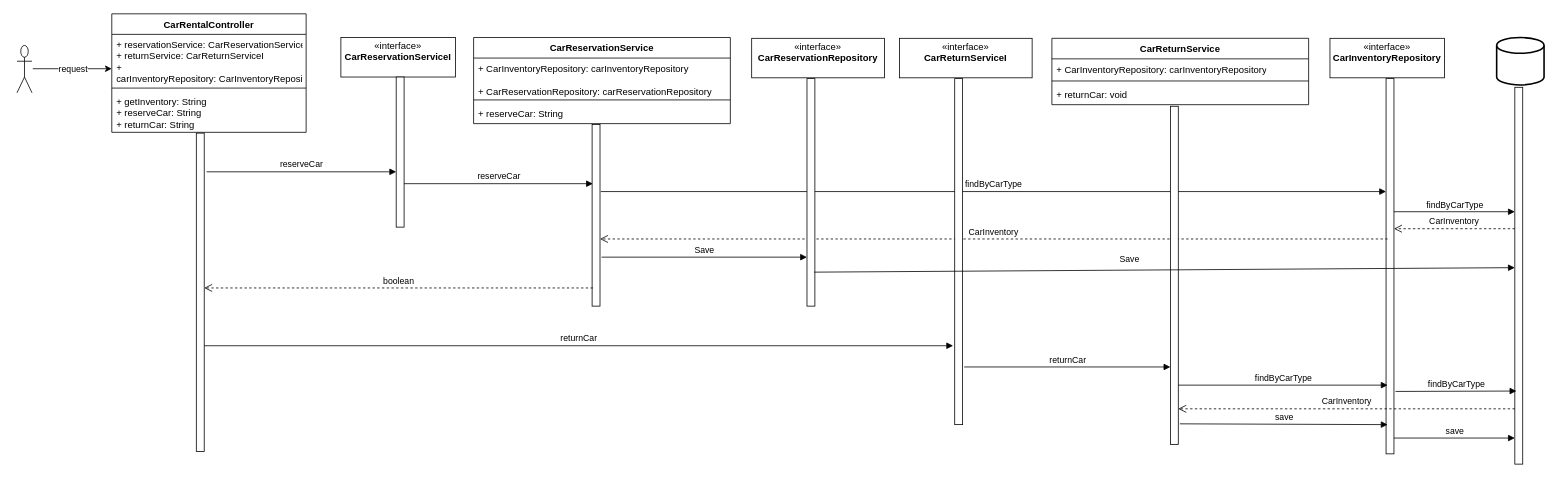
This 1559x478 diagram has some shape labels left out. Here are the shapes that lost their labels. From the top down, the centre of each, then its label:
point (24, 69): Actor
point (1519, 60): Database
